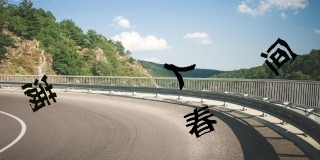人: (161, 60, 198, 90)
春: (182, 106, 220, 139)
满: (20, 72, 57, 114)
间: (259, 37, 298, 76)
